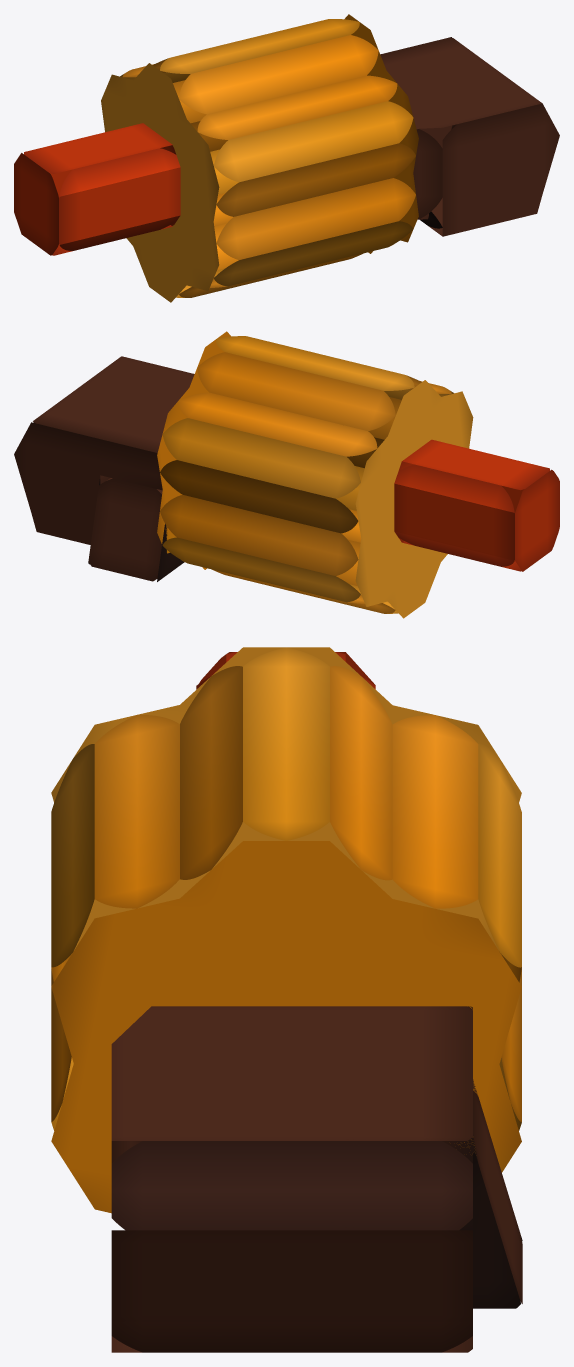
Rendered from TexasRedRightArm.obj.
3 views of the same model, one above another, from view 1: azimuth 30°, elevation 25°; view 2: azimuth 150°, elevation 25°; view 3: azimuth 270°, elevation 25° (orthographic). The views are drawn at different scales.
Parts seen in each view (by area): view 1: Forearm, cuboid, Arm; view 2: Forearm, cuboid, Arm; view 3: Forearm, cuboid.
Part boxes in pixels (box(x1,y1,x2,y2)): Forearm: box(101, 14, 418, 302); cuboid: box(380, 37, 559, 236); Arm: box(14, 123, 180, 255); Forearm: box(157, 331, 473, 618); cuboid: box(14, 356, 194, 581); Arm: box(394, 439, 559, 571); Forearm: box(51, 647, 521, 1213); cuboid: box(111, 1006, 522, 1352).
Bounding box in the file's own units: 0.6906 × 0.3085 × 0.2957.
1 material, 1 textured.
